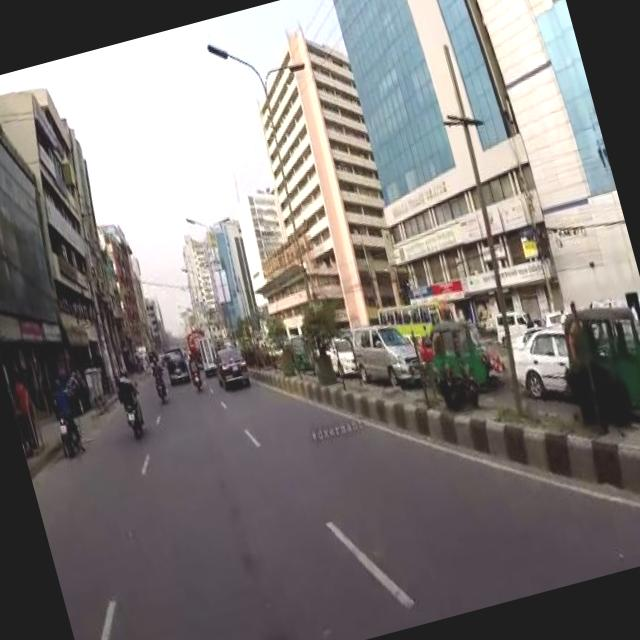bus: (371, 286, 455, 351)
car: (502, 318, 574, 401), (312, 328, 356, 378), (208, 341, 250, 386)
motorcycle: (555, 288, 640, 442), (418, 306, 496, 399), (115, 376, 149, 436), (51, 400, 84, 452), (286, 328, 314, 375), (148, 362, 167, 400), (186, 358, 202, 388)
truck: (347, 312, 428, 394), (489, 302, 536, 342), (158, 342, 188, 379), (180, 324, 208, 360)
